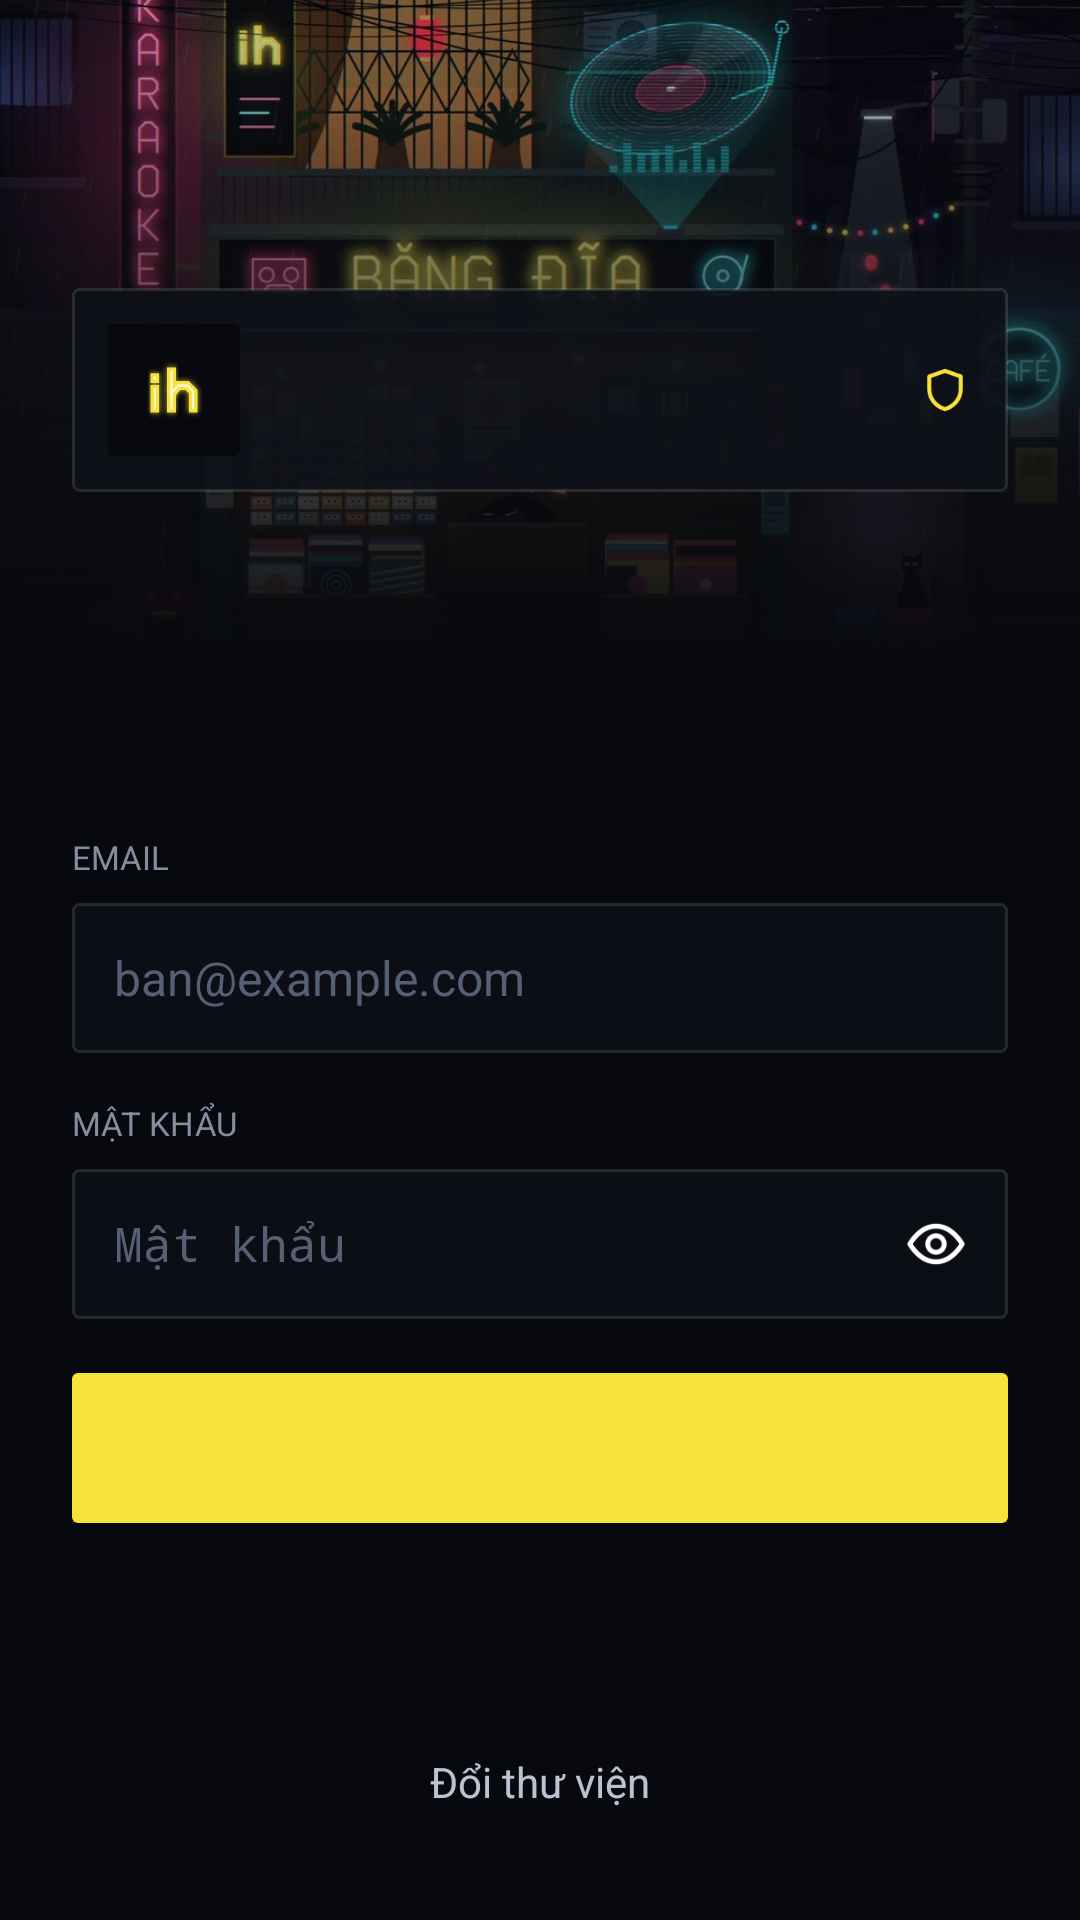

Icons on this 1080px x 1920px Android screen, each with its box as (x1, y1, x2, y2):
brand mark: (148, 364, 201, 416)
Đã xác minh: (927, 369, 963, 411)
